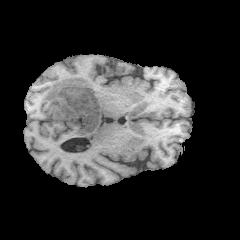glioma: (42, 76, 101, 138)
